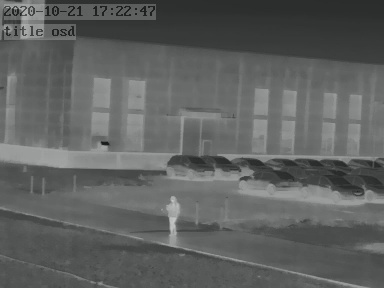person: (164, 192, 181, 236)
vehicle: (305, 173, 359, 200), (238, 169, 303, 191), (165, 153, 212, 179), (205, 153, 242, 177), (350, 174, 383, 200), (233, 155, 269, 171), (262, 155, 296, 170), (348, 155, 379, 170), (296, 156, 324, 169), (319, 156, 347, 169)
